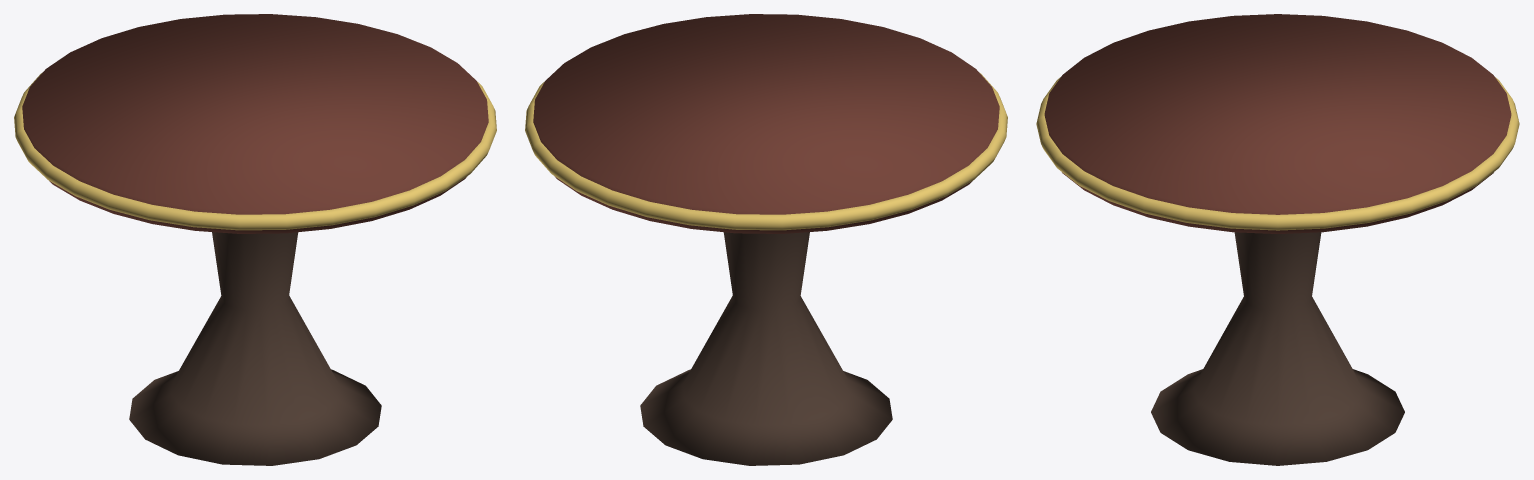
Rendered from table_round_pedestal.glb.
The picture shows the model from 3 angles, left to right: view 1: azimuth 30°, elevation 25°; view 2: azimuth 150°, elevation 25°; view 3: azimuth 270°, elevation 25°; orthographic projection.
Parts seen in each view (by area): view 1: GD_table_round_pedestal__m0, GD_table_round_pedestal__m1, GD_table_round_pedestal__m2; view 2: GD_table_round_pedestal__m0, GD_table_round_pedestal__m1, GD_table_round_pedestal__m2; view 3: GD_table_round_pedestal__m0, GD_table_round_pedestal__m1, GD_table_round_pedestal__m2.
Part boxes in pixels (x1=…): GD_table_round_pedestal__m0: x1=22, y1=14, x2=488, y2=233; GD_table_round_pedestal__m1: x1=129, y1=232, x2=381, y2=465; GD_table_round_pedestal__m2: x1=14, y1=73, x2=496, y2=230; GD_table_round_pedestal__m0: x1=533, y1=14, x2=999, y2=233; GD_table_round_pedestal__m1: x1=640, y1=232, x2=892, y2=465; GD_table_round_pedestal__m2: x1=525, y1=73, x2=1007, y2=230; GD_table_round_pedestal__m0: x1=1044, y1=14, x2=1511, y2=233; GD_table_round_pedestal__m1: x1=1151, y1=232, x2=1404, y2=465; GD_table_round_pedestal__m2: x1=1036, y1=77, x2=1519, y2=230.
Bounding box in the file's own units: 1.14 × 0.78 × 1.14.
